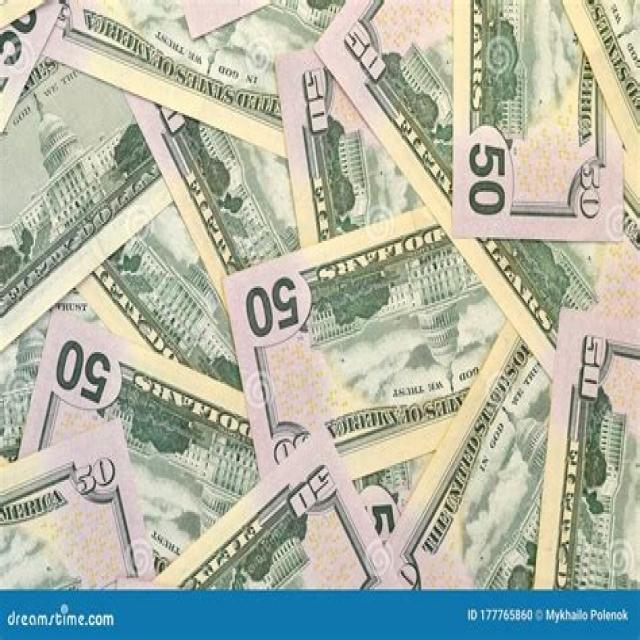Fifty: (315, 0, 640, 375), (228, 205, 511, 486), (19, 308, 285, 589), (0, 50, 179, 353), (22, 0, 339, 147), (384, 320, 556, 590), (134, 422, 406, 590), (451, 0, 619, 236), (274, 50, 443, 252), (534, 306, 640, 589)
